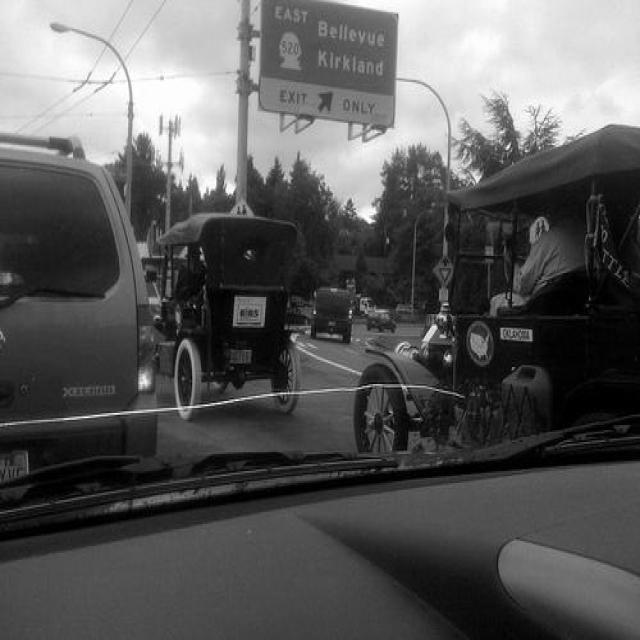vehicle: (344, 113, 640, 456), (0, 132, 160, 480), (147, 213, 303, 421), (310, 287, 354, 343), (366, 312, 396, 333), (287, 307, 315, 327), (360, 297, 375, 313), (395, 302, 411, 314)
